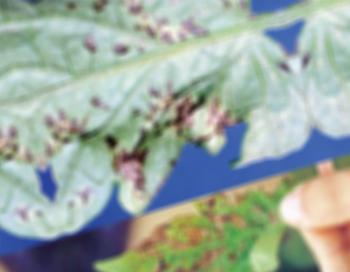Tomato leaf bacterial spot: (0, 0, 324, 235), (80, 166, 338, 272)
